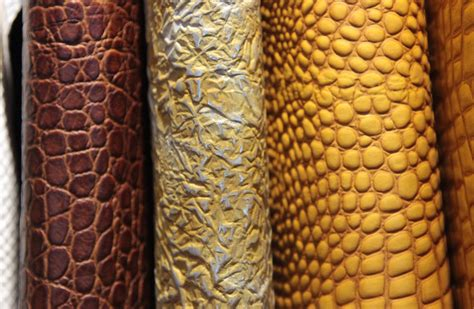cuero: (19, 1, 474, 309)
